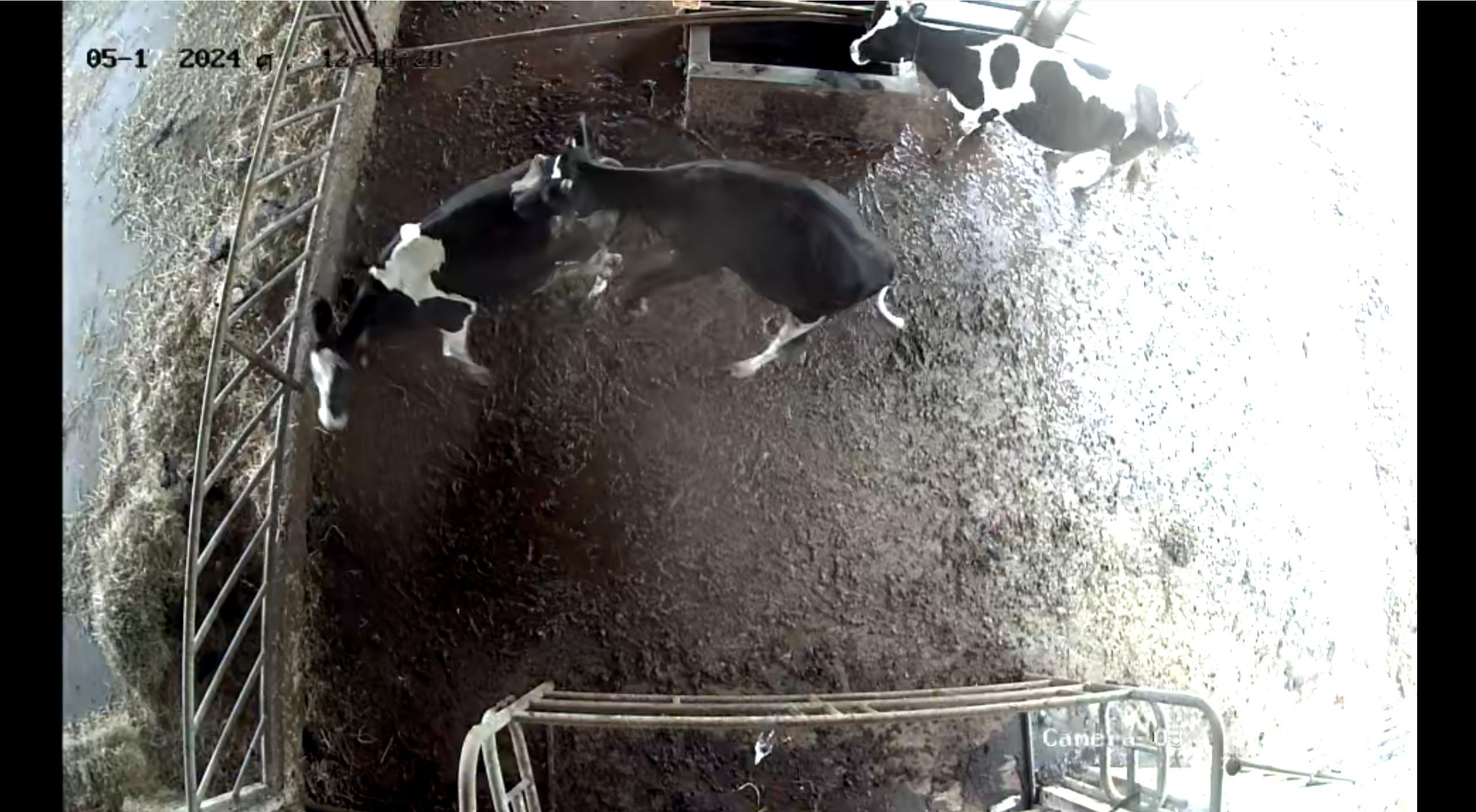drink: (816, 0, 938, 137)
ride: (504, 134, 917, 394)
stand: (287, 156, 594, 448)
